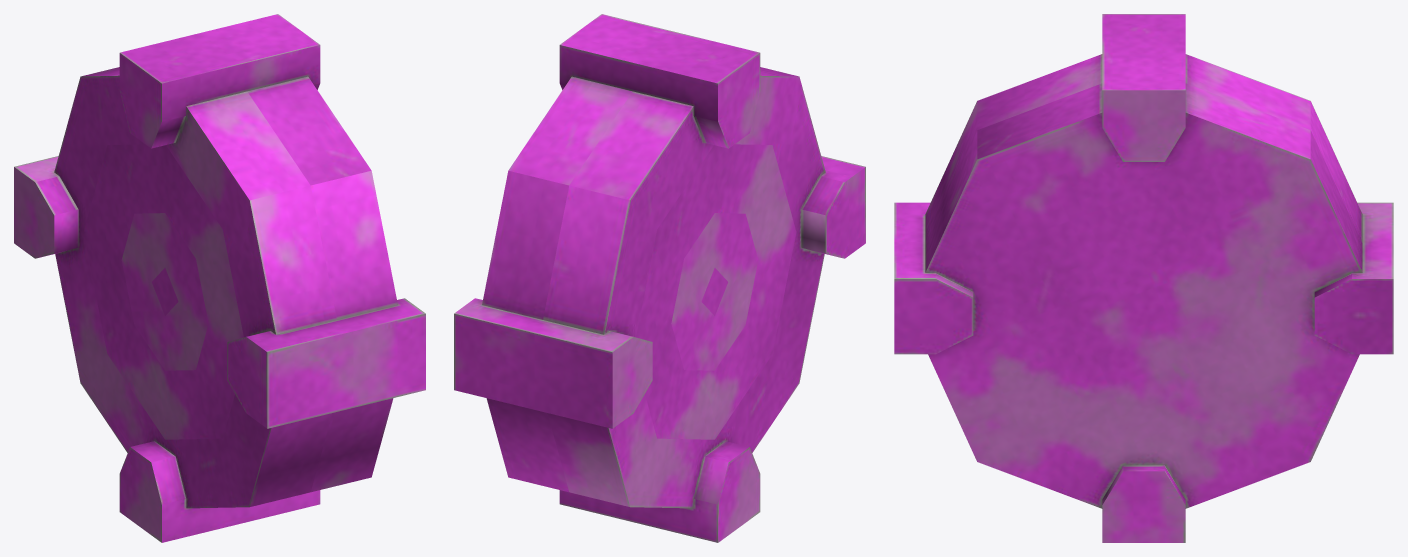
The model's file is target-detail.glb.
3 renders of one model, left to right at view 1: azimuth 30°, elevation 25°; view 2: azimuth 150°, elevation 25°; view 3: azimuth 270°, elevation 25°, orthographic.
Visible parts, largest first — view 1: target-detail; view 2: target-detail; view 3: target-detail.
Boxes of the visible parts, x1,y1,x2,y2 form: target-detail: (14, 14, 425, 542); target-detail: (454, 14, 865, 542); target-detail: (894, 14, 1393, 542).
Bounding box in the file's own units: 0.13 × 0.36 × 0.36.
1 material, 1 textured.
